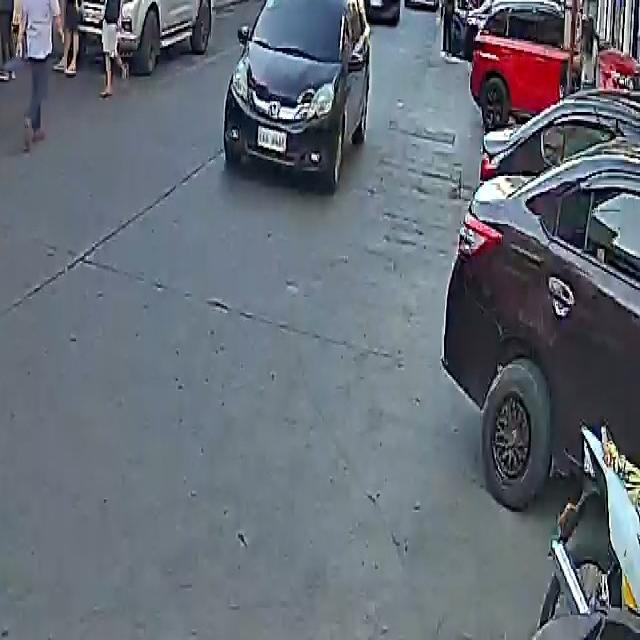car: (445, 81, 640, 527), (219, 0, 375, 187), (466, 0, 577, 126), (87, 0, 220, 73), (361, 0, 404, 25), (401, 0, 441, 5)
